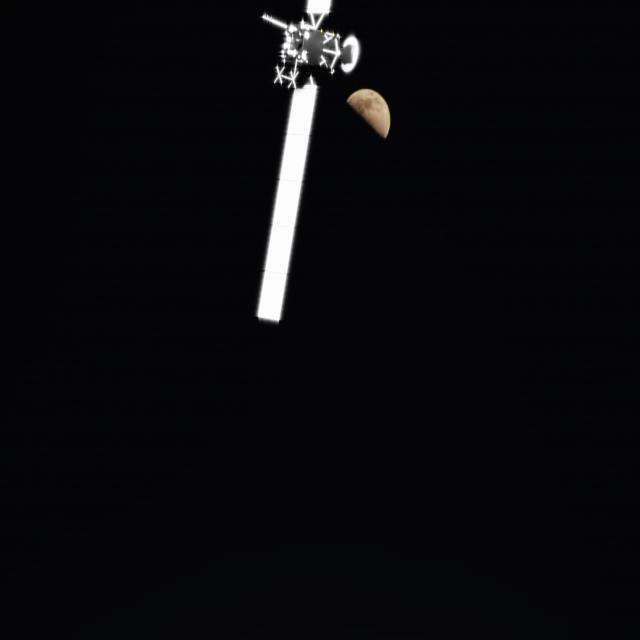satellite: (249, 0, 373, 359)
